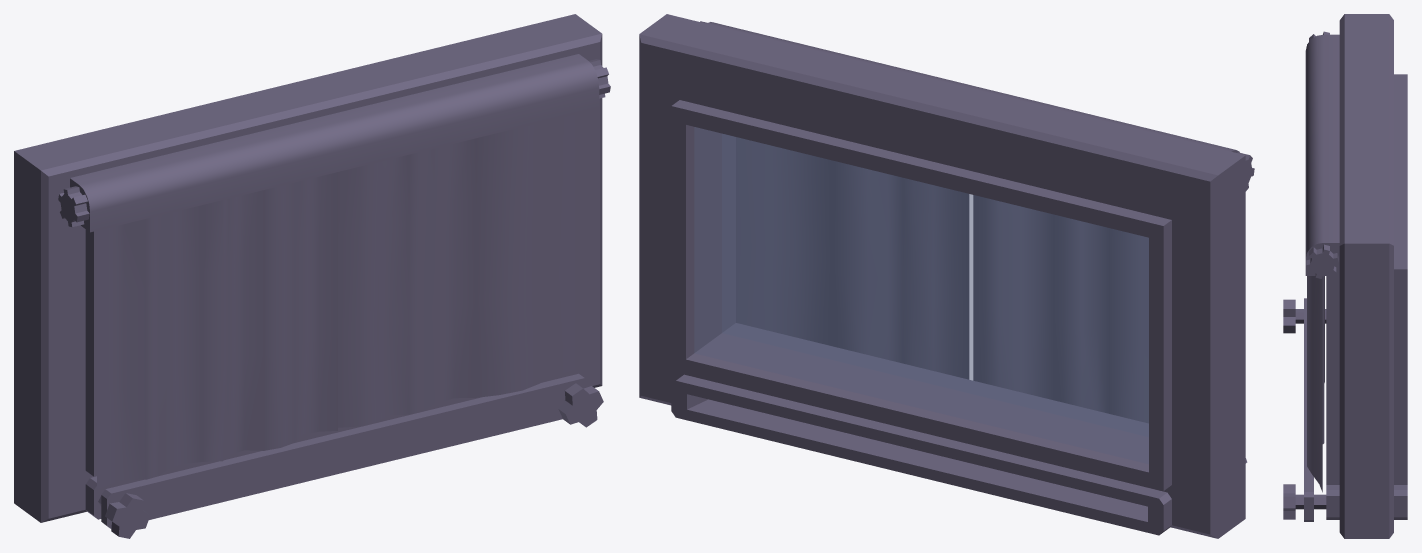
Rendered from obj_decor_windowcurtain_on.fbx.
3 views of the same model, side by side, from view 1: azimuth 30°, elevation 25°; view 2: azimuth 150°, elevation 25°; view 3: azimuth 270°, elevation 25° (orthographic). The views are drawn at different scales.
Visible parts, largest first — view 1: obj_questdecor_windowcurtain_off2, obj_questdecor_windowcurtain_off; view 2: obj_questdecor_windowcurtain_off, obj_questdecor_windowcurtain_off2; view 3: obj_questdecor_windowcurtain_off, obj_questdecor_windowcurtain_off2.
Boxes of the visible parts, box(x1,y1,x2,y2) form: obj_questdecor_windowcurtain_off2: box(97, 114, 575, 489); obj_questdecor_windowcurtain_off: box(14, 14, 610, 538); obj_questdecor_windowcurtain_off: box(639, 14, 1254, 538); obj_questdecor_windowcurtain_off2: box(736, 137, 1148, 423); obj_questdecor_windowcurtain_off: box(1283, 14, 1407, 538); obj_questdecor_windowcurtain_off2: box(1307, 276, 1324, 492).
Size of the model in its own units: 10 by 6.03 by 2.29.
